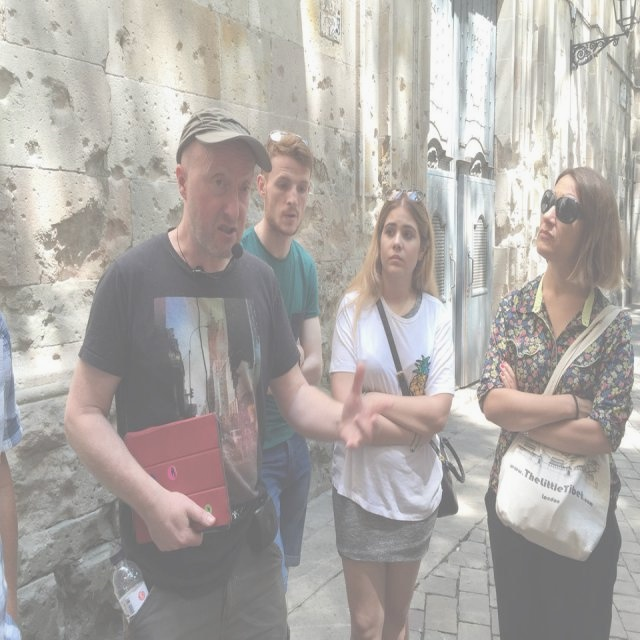pessoa: (59, 101, 396, 639), (474, 163, 636, 640), (324, 182, 470, 639), (240, 128, 326, 611), (0, 306, 32, 640)
